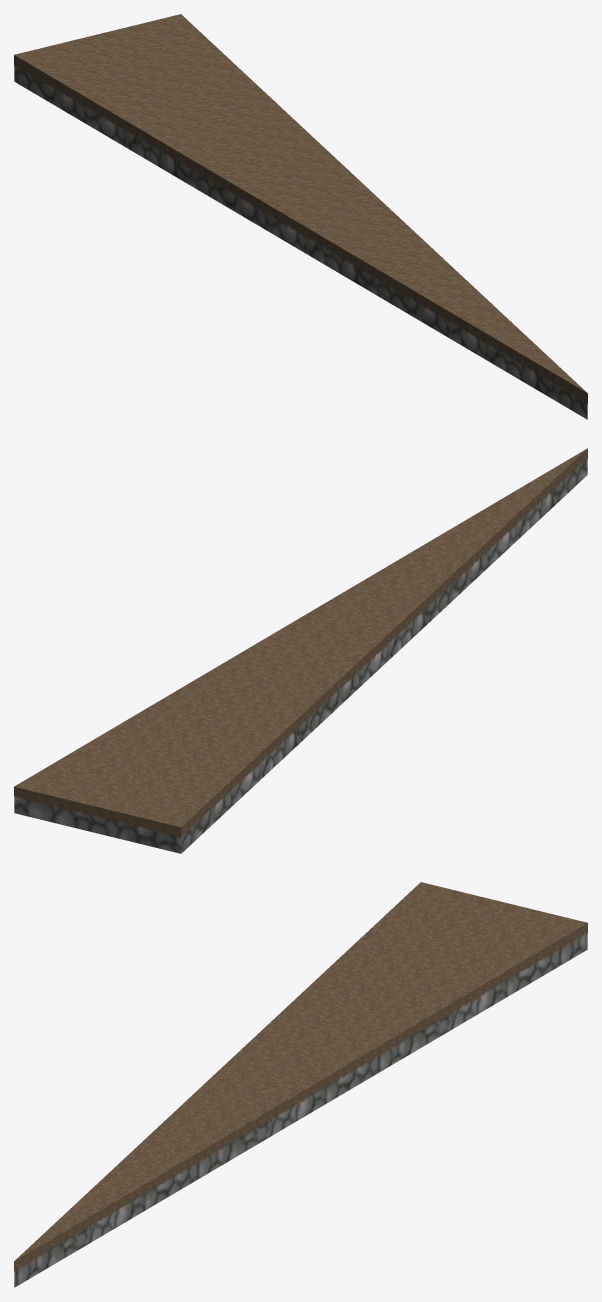
3 renders of one model, top to bottom at view 1: azimuth 30°, elevation 25°; view 2: azimuth 150°, elevation 25°; view 3: azimuth 330°, elevation 25°, orthographic.
Parts seen in each view (by area): view 1: TopLayer, TownChunk; view 2: TopLayer, TownChunk; view 3: TopLayer, TownChunk.
Boxes of the visible parts, x1,y1,x2,y2 form: TopLayer: [14, 14, 587, 403]; TownChunk: [14, 65, 587, 419]; TopLayer: [14, 448, 587, 838]; TownChunk: [14, 458, 587, 853]; TopLayer: [14, 882, 587, 1271]; TownChunk: [14, 932, 587, 1287].
Bounding box in the file's own units: 0.6557 × 0.1001 × 3.33.
4 materials, 3 textured.
